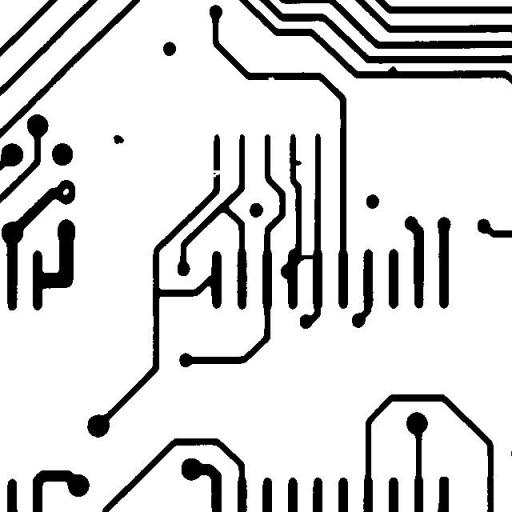copper: (106, 127, 131, 151)
mousebite: (260, 68, 282, 90)
open: (202, 162, 232, 185)
pin-hole: (55, 181, 76, 202)
short: (292, 247, 322, 268)
spur: (380, 58, 405, 82), (284, 151, 309, 173)
